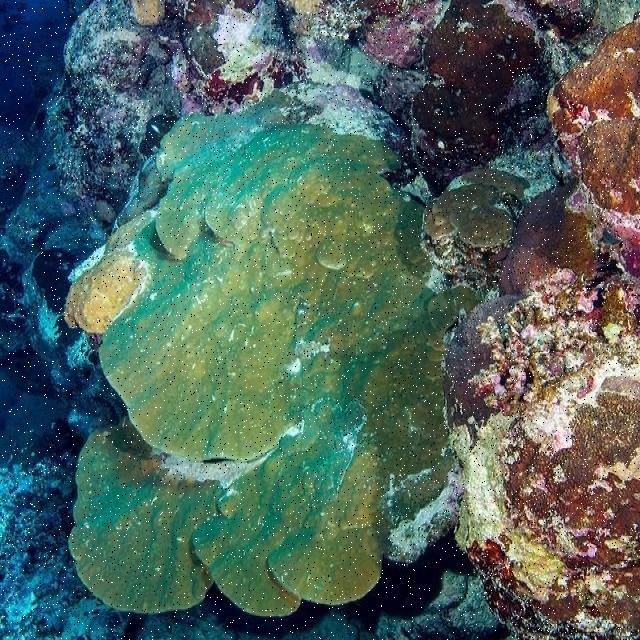reefs: (63, 89, 478, 616), (424, 15, 638, 638)
